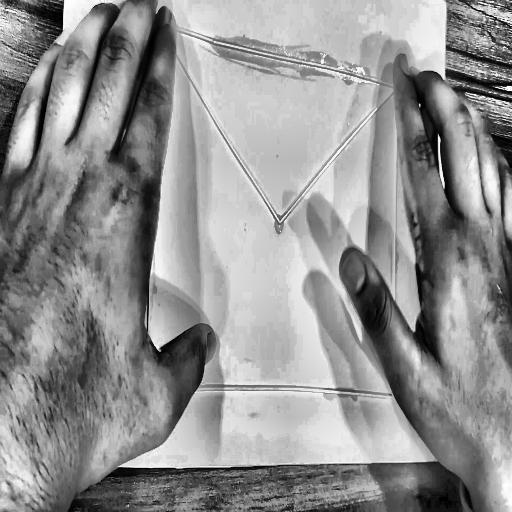bottom_left: (54, 443, 63, 458)
bottom_right: (445, 448, 454, 466)
envelop: (138, 12, 406, 405)
